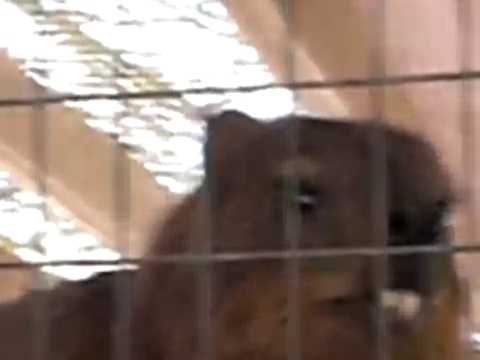Rock Hyrex: (2, 110, 468, 360)
